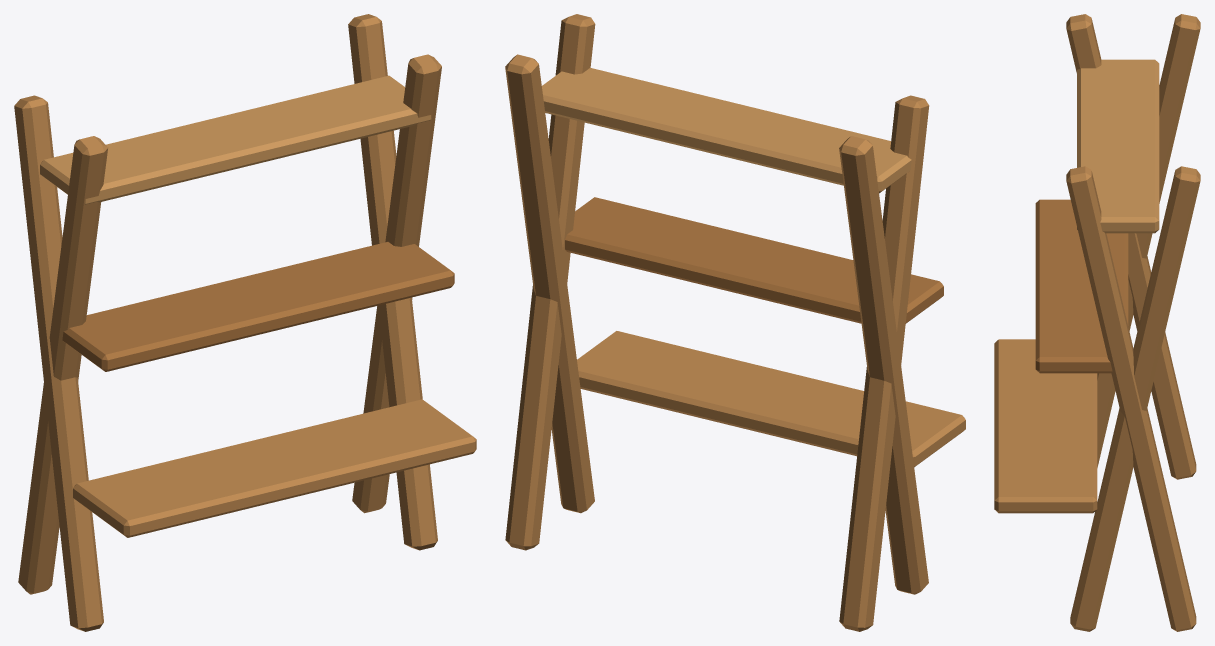
Rendered from plant_stand_tiered.glb.
3 views of the same model, side by side, from view 1: azimuth 30°, elevation 25°; view 2: azimuth 150°, elevation 25°; view 3: azimuth 270°, elevation 25° (orthographic). The views are drawn at different scales.
Parts seen in each view (by area): view 1: plant_stand_tiered; view 2: plant_stand_tiered; view 3: plant_stand_tiered.
Boxes of the visible parts, <box> form: plant_stand_tiered: <box>14,14,476,631</box>; plant_stand_tiered: <box>505,14,965,631</box>; plant_stand_tiered: <box>994,14,1200,631</box>.
Bounding box in the file's own units: 0.758 × 0.9844 × 0.4003.
